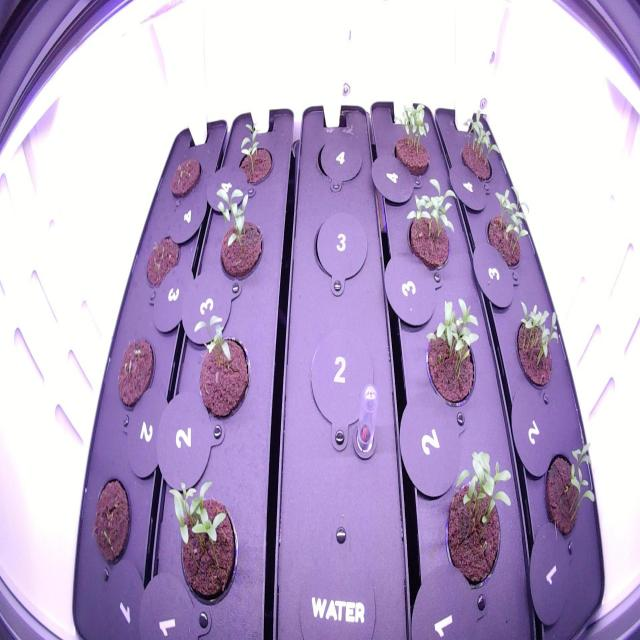empty_pod: (304, 326, 376, 434), (308, 204, 372, 291), (310, 128, 364, 188)
germination: (436, 430, 520, 601), (163, 470, 243, 614), (189, 288, 256, 427), (421, 277, 485, 417), (538, 432, 602, 552), (209, 171, 268, 288), (398, 172, 462, 278), (508, 289, 566, 402), (479, 170, 538, 279), (386, 92, 439, 185), (222, 112, 279, 198), (456, 100, 504, 186)
pod: (88, 467, 136, 578), (110, 329, 160, 419), (140, 224, 186, 300), (166, 146, 207, 204)
